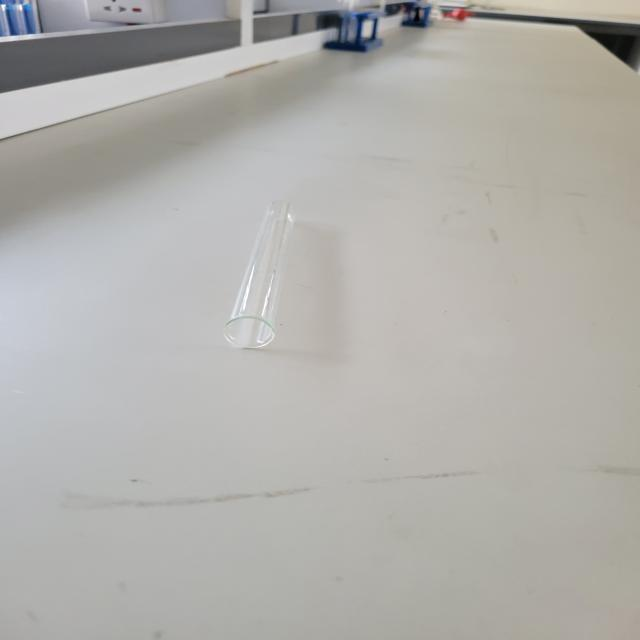Test_Tube: (204, 135, 312, 395)
